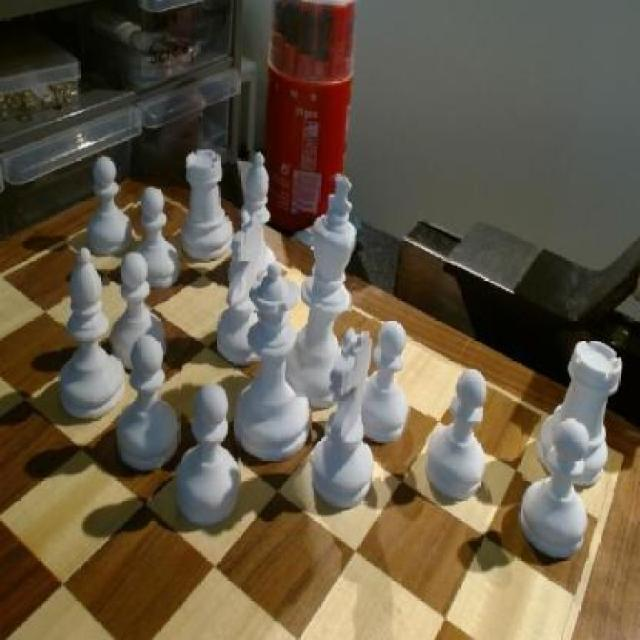black-rook: (60, 244, 129, 423), (240, 151, 278, 282)
white-bishop: (289, 174, 358, 402)
white-king: (308, 329, 380, 506), (219, 218, 273, 367)
white-knight: (426, 364, 493, 506), (522, 420, 588, 562), (177, 383, 242, 526), (117, 338, 183, 472), (362, 320, 412, 447), (111, 252, 163, 367), (136, 183, 182, 295), (89, 153, 134, 254)
white-pawn: (231, 265, 312, 467)
white-queen: (543, 332, 626, 494), (182, 148, 236, 264)
